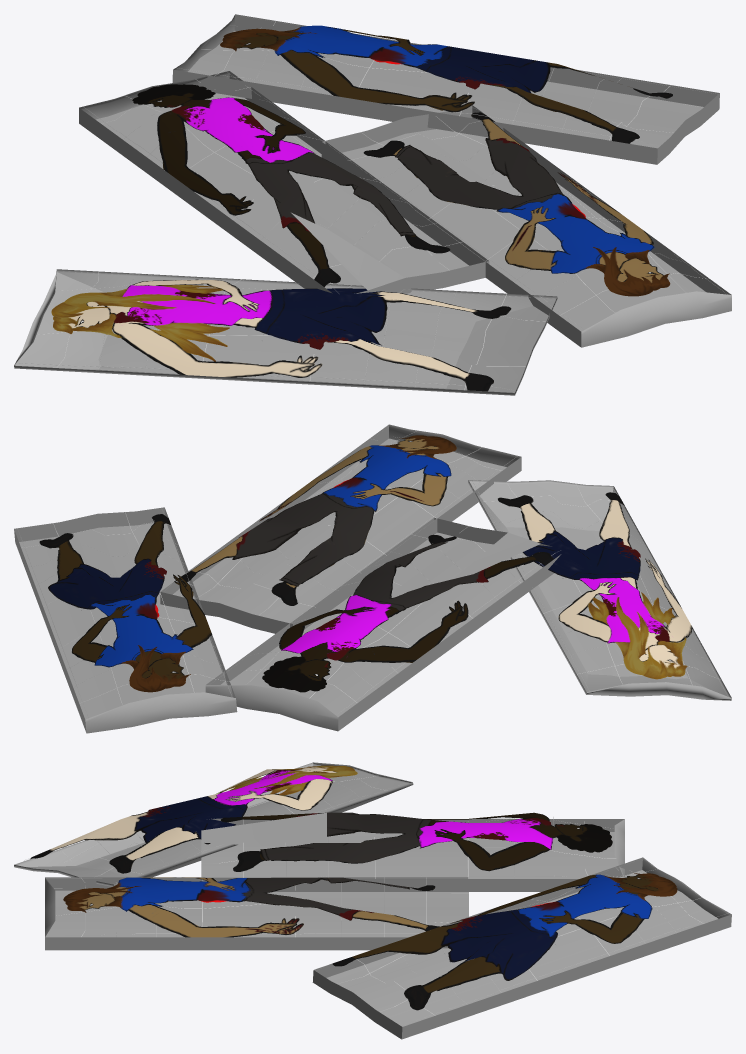
The model's file is Death_cluster2.fbx.
The picture shows the model from 3 angles, top to bottom: view 1: azimuth 30°, elevation 25°; view 2: azimuth 150°, elevation 25°; view 3: azimuth 270°, elevation 25°; orthographic projection. The views are drawn at different scales.
Visible parts, largest first — view 1: pCube17; view 2: pCube17; view 3: pCube17.
Boxes of the visible parts, bbox=[...] form: pCube17: bbox=[14, 14, 731, 395]; pCube17: bbox=[14, 424, 731, 733]; pCube17: bbox=[14, 762, 731, 1039].
Size of the model in its own units: 3.99 by 0.4419 by 4.
Materials: 5 (4 with a texture image).
